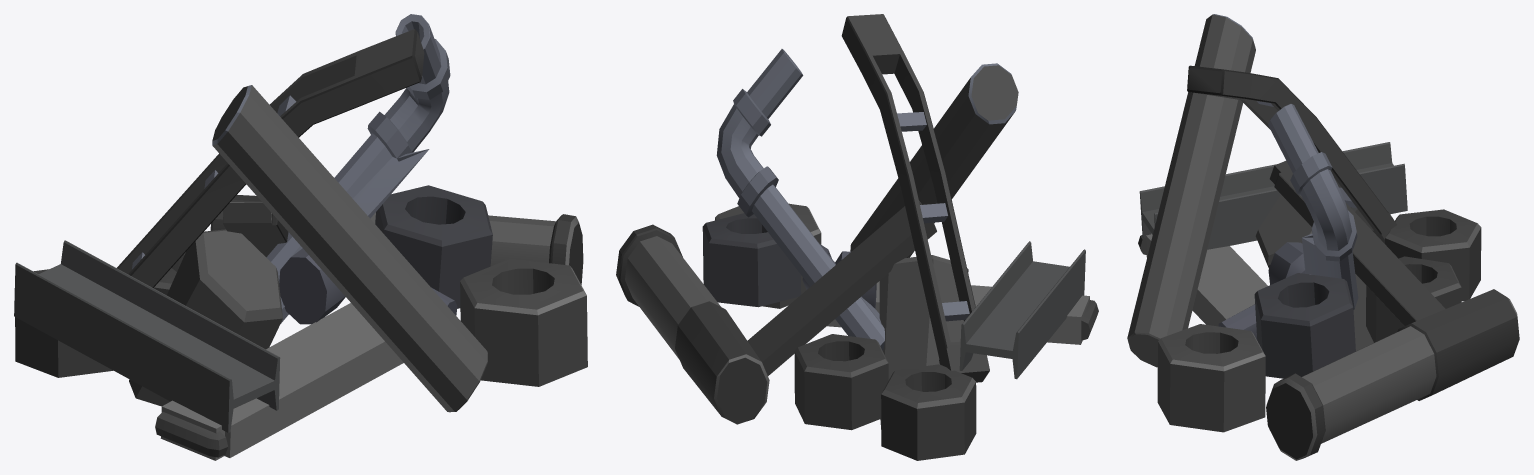
Rendered from scrap.fbx.
3 views of the same model, side by side, from view 1: azimuth 30°, elevation 25°; view 2: azimuth 150°, elevation 25°; view 3: azimuth 270°, elevation 25° (orthographic). The views are drawn at different scales.
Visible parts, largest first — view 1: scrap_high; view 2: scrap_high; view 3: scrap_high.
Boxes of the visible parts, x1=… form: scrap_high: x1=14, y1=14, x2=587, y2=460; scrap_high: x1=616, y1=14, x2=1098, y2=460; scrap_high: x1=1127, y1=14, x2=1519, y2=460.
Bounding box in the file's own units: 271 × 195 × 207.
